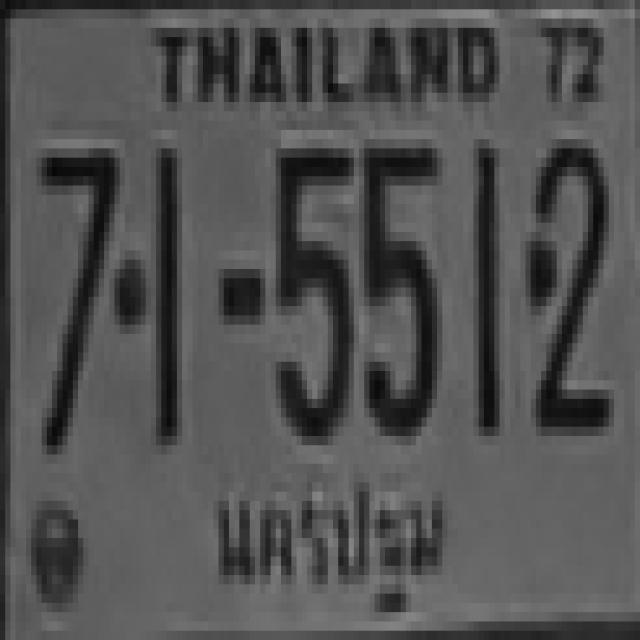1: (151, 144, 177, 440), (468, 139, 494, 427)
2: (530, 138, 614, 426)
5: (275, 144, 353, 442), (361, 144, 439, 431)
7: (36, 139, 114, 445)
NakhonPathom: (196, 456, 452, 631)
